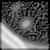node: (19, 18, 33, 30), (12, 4, 21, 14)
